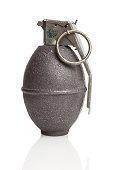Grenade: (20, 17, 92, 135)
